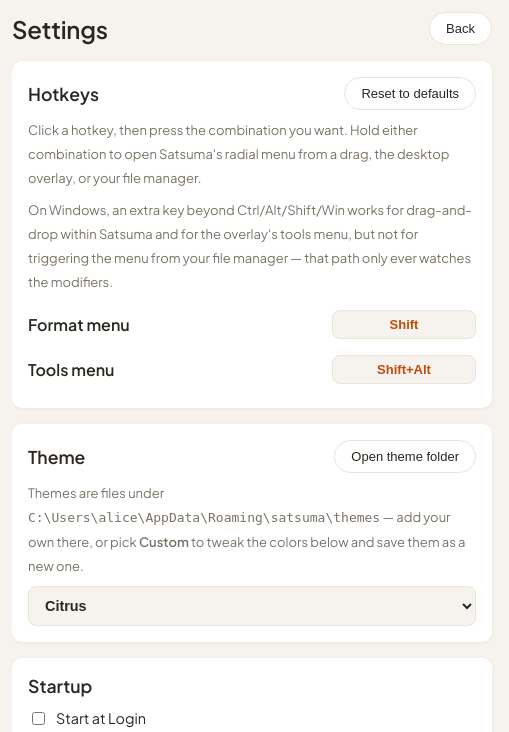
it: SettingsScreen › rejects making the two bindings identical without saving
Click the button with test id "tools-hotkey-button": (404, 370) [332,355,476,384]
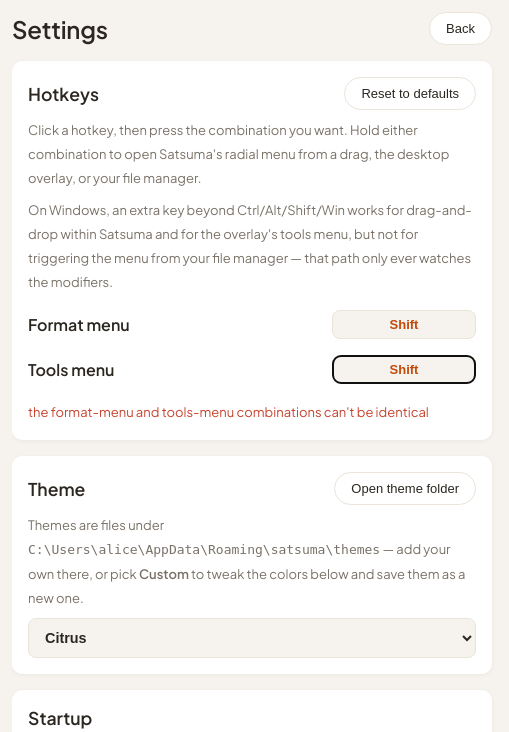
Now the text with test id "hotkey-error" shows "identical", box [28,404,429,420]
